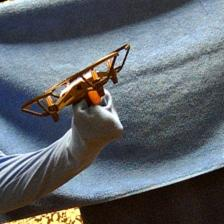drone: (20, 42, 131, 124)
